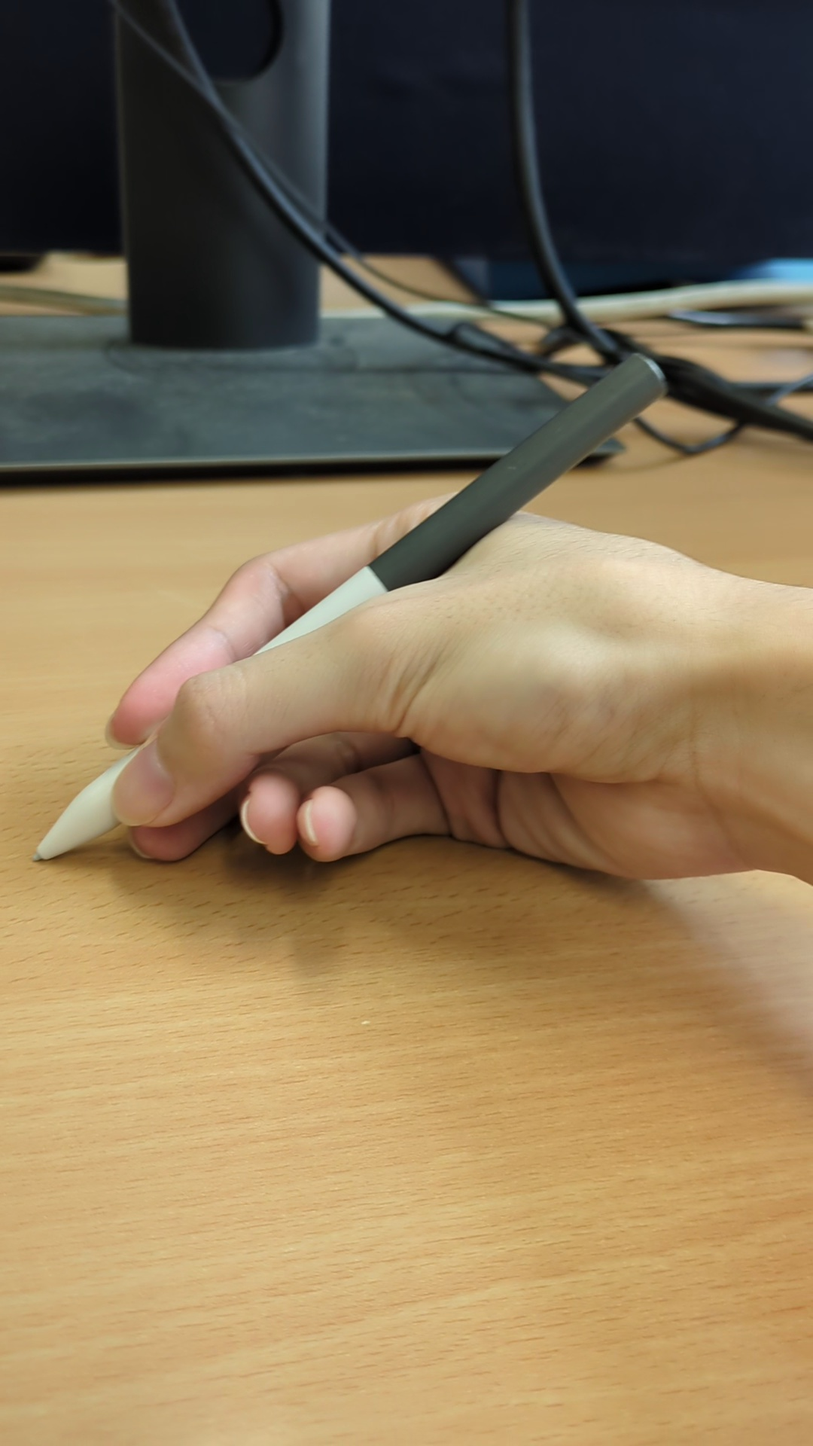pen: (29, 349, 671, 862)
tip: (29, 837, 60, 862)
